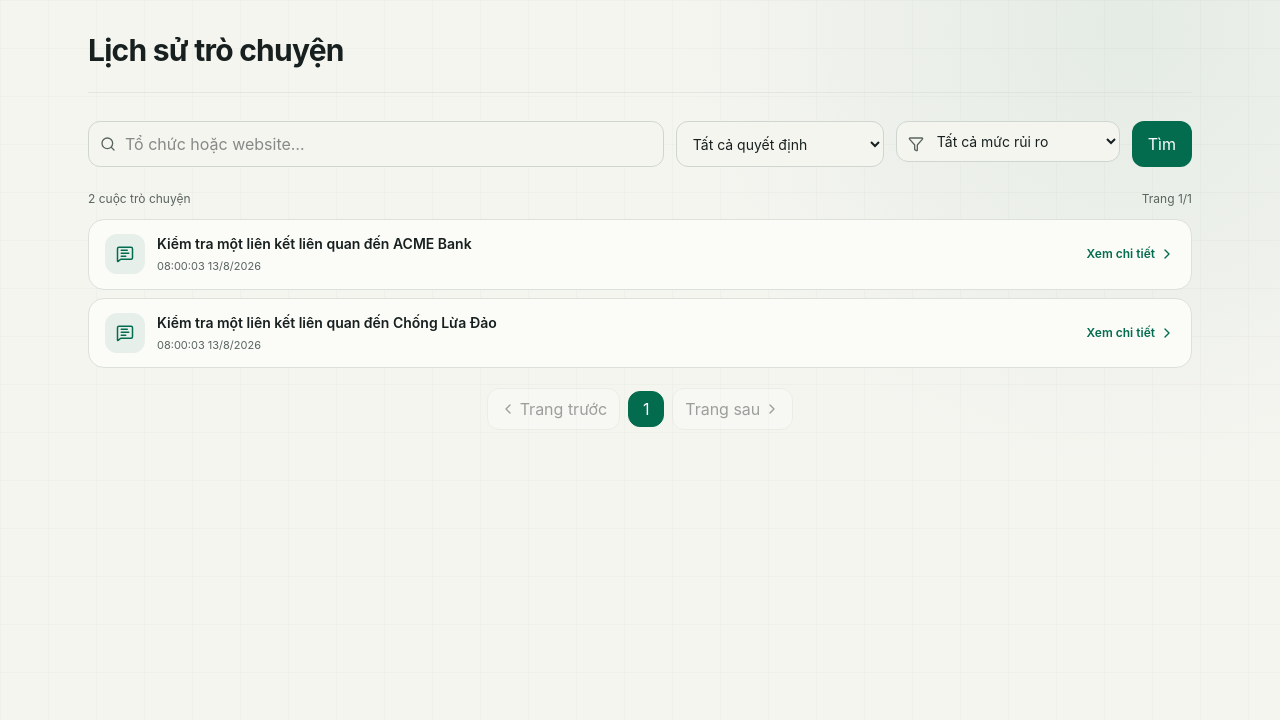
Test: FE5 case library › replaces the visible history when search and filters change
The width and height of the screenshot is (1280, 720).
Expected: the number of links named "Mở cuộc trò chuyện" is 2, [88, 219, 1192, 290]; [88, 298, 1192, 368]
Select "Chưa phát hiện rủi ro" in the dropdown named "Lọc theo mức rủi ro": (1008,142) [896, 121, 1120, 162]
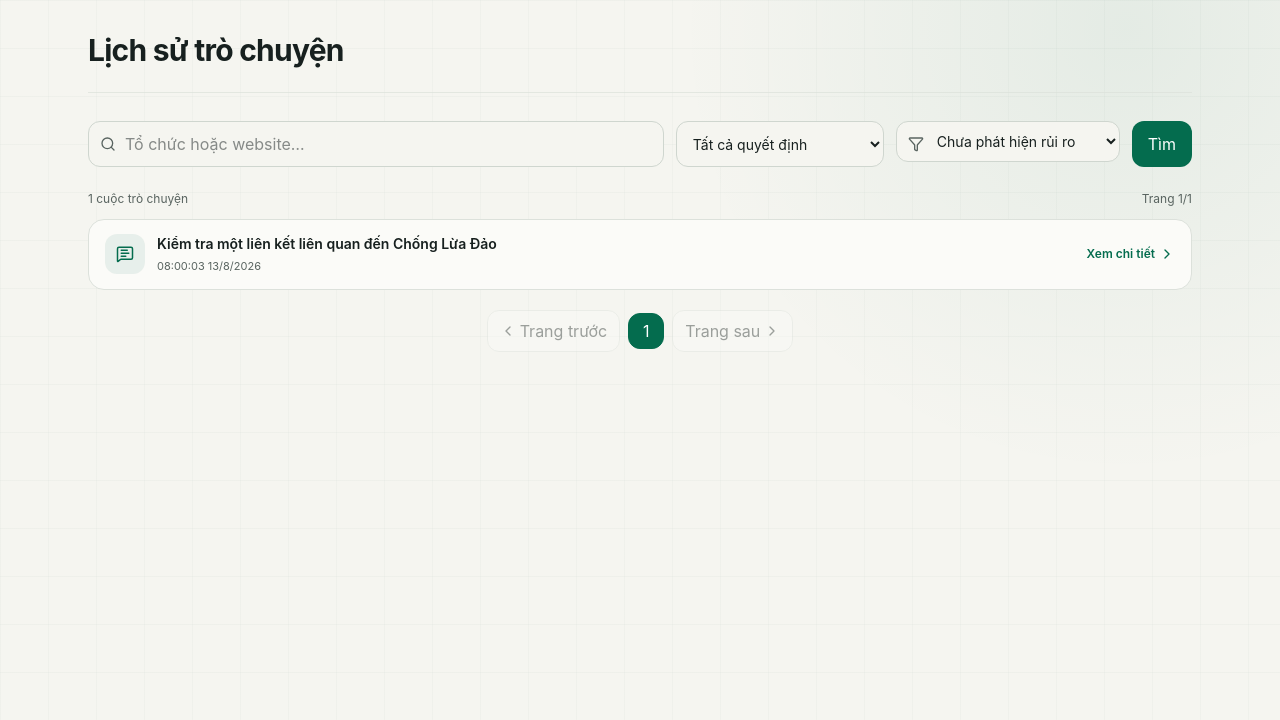
Expected: the text "Kiểm tra một liên kết liên quan đến Chống Lừa Đảo" is shown, [157, 235, 497, 252]
Expected: the number of links named "Mở cuộc trò chuyện" is 1, [88, 219, 1192, 290]
Expected: the link "ACME Bank" is gone
Select "Tất cả mức rủi ro" in the dropdown named "Lọc theo mức rủi ro": (1008,142) [896, 121, 1120, 162]
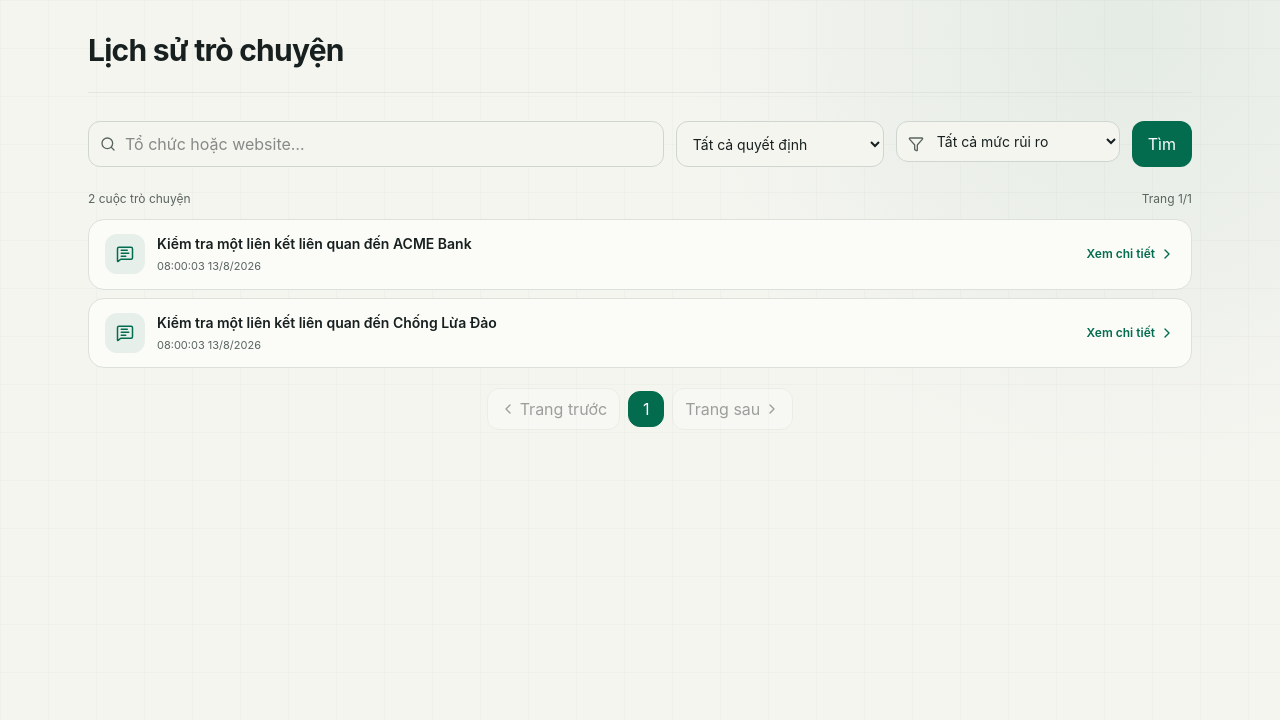
Expected: the number of links named "Mở cuộc trò chuyện" is 2, [88, 219, 1192, 290]; [88, 298, 1192, 368]
In the field named "Tìm theo tổ chức hoặc website": (376,144) [88, 121, 664, 167], type "ACME"
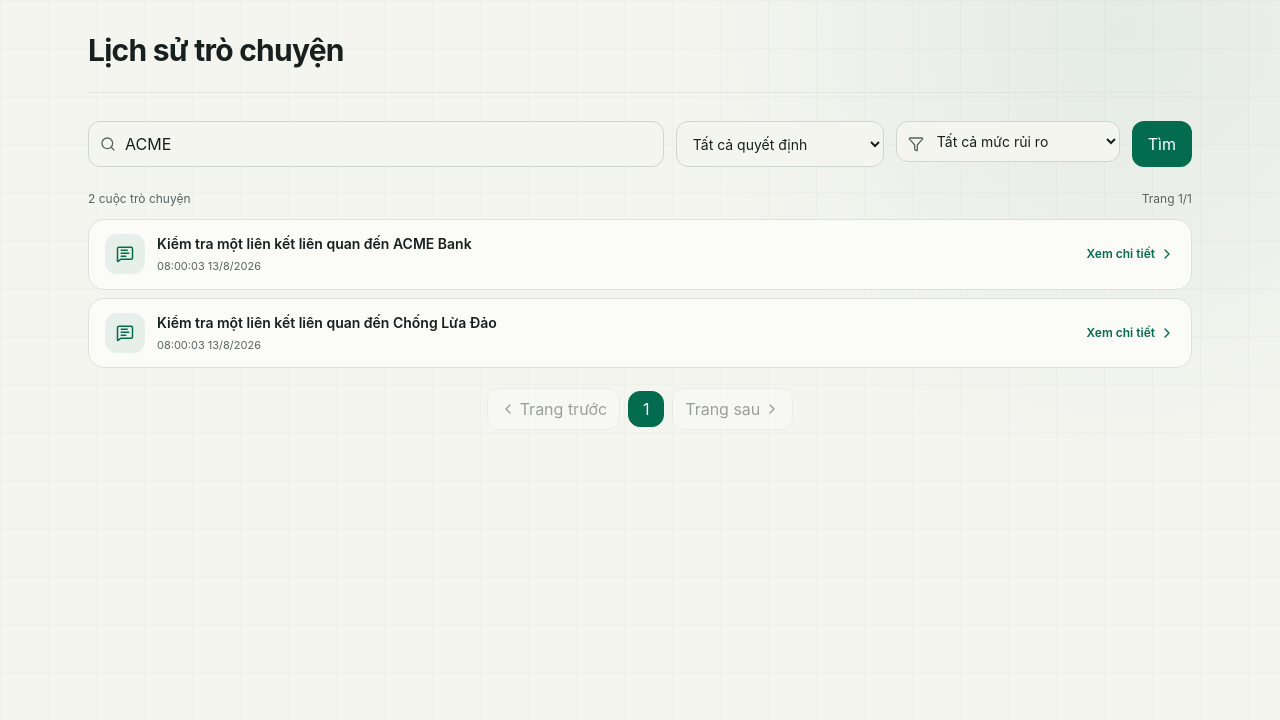
Click the button "Tìm": (1162,144) [1132, 121, 1192, 167]
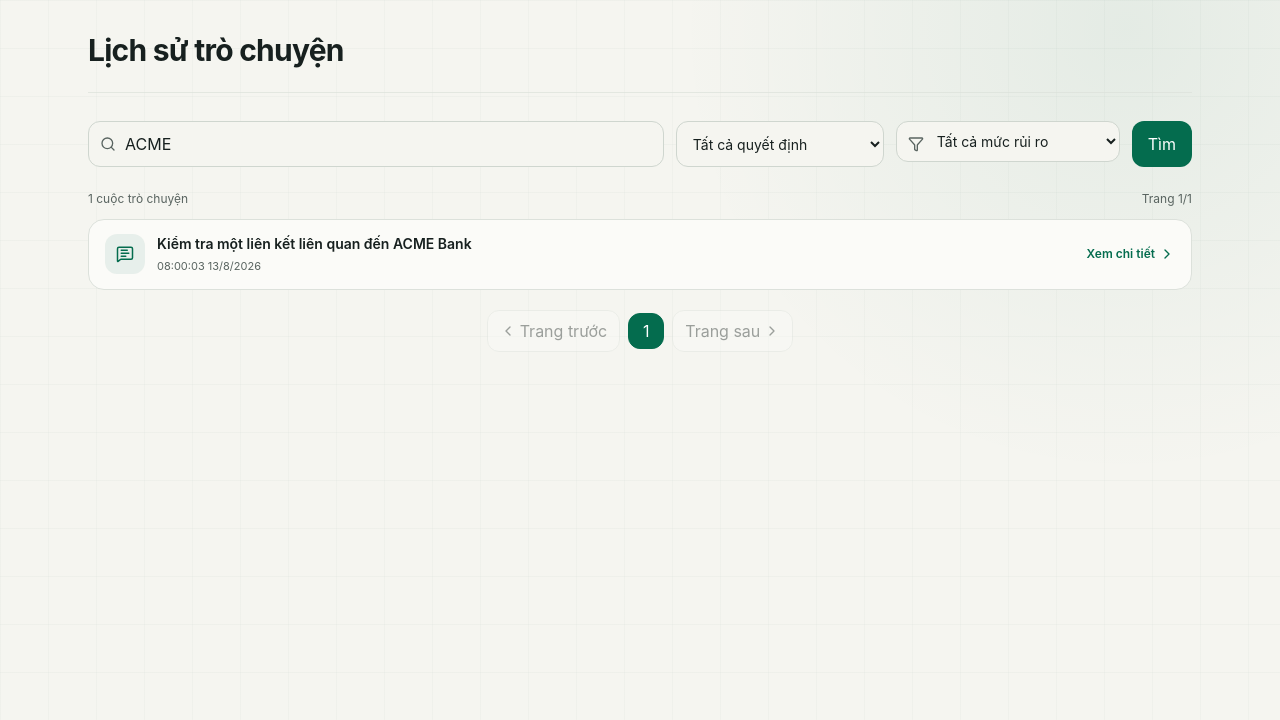
Expected: the text "Kiểm tra một liên kết liên quan đến ACME Bank" is shown, [157, 235, 472, 252]
Expected: the number of links named "Mở cuộc trò chuyện" is 1, [88, 219, 1192, 290]
Expected: the link "Chống Lừa Đảo" is gone
